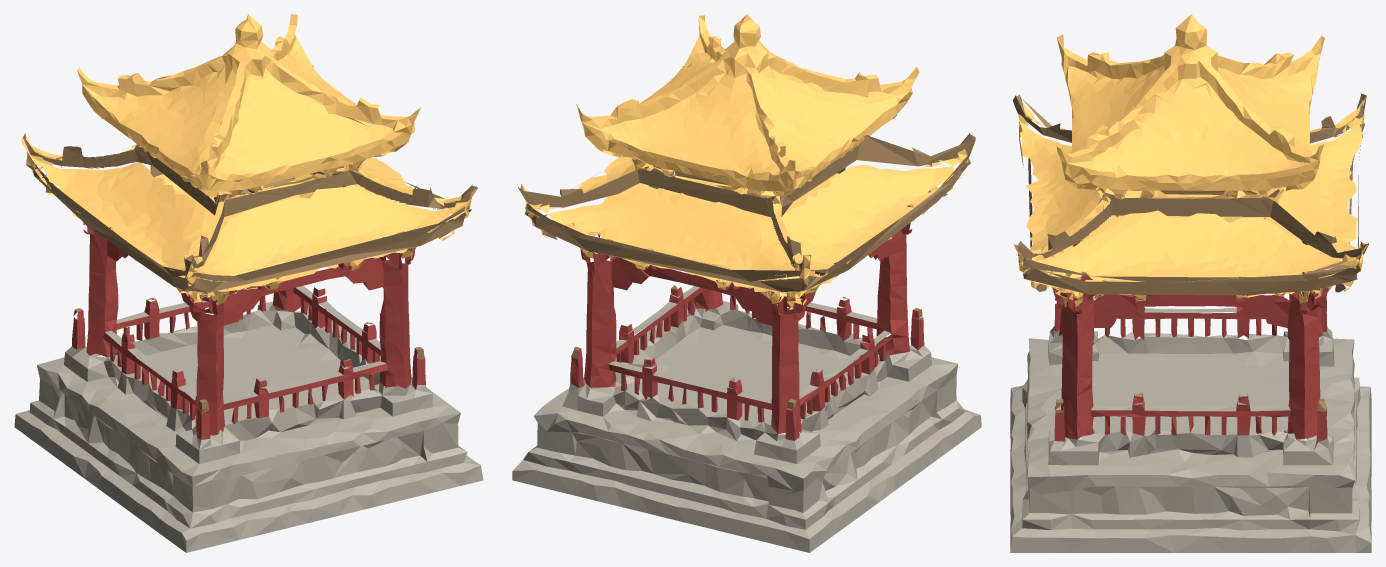
Rendered from meshy-pavilion.glb.
The picture shows the model from 3 angles, left to right: view 1: azimuth 30°, elevation 25°; view 2: azimuth 150°, elevation 25°; view 3: azimuth 270°, elevation 25°; orthographic projection. The views are drawn at different scales.
Parts seen in each view (by area): view 1: mesh_node; view 2: mesh_node; view 3: mesh_node.
Boxes of the visible parts, <box> form: mesh_node: <box>14,14,483,552</box>; mesh_node: <box>512,14,981,552</box>; mesh_node: <box>1010,14,1371,552</box>.
Size of the model in its own units: 1.34 by 1.9 by 1.34.
